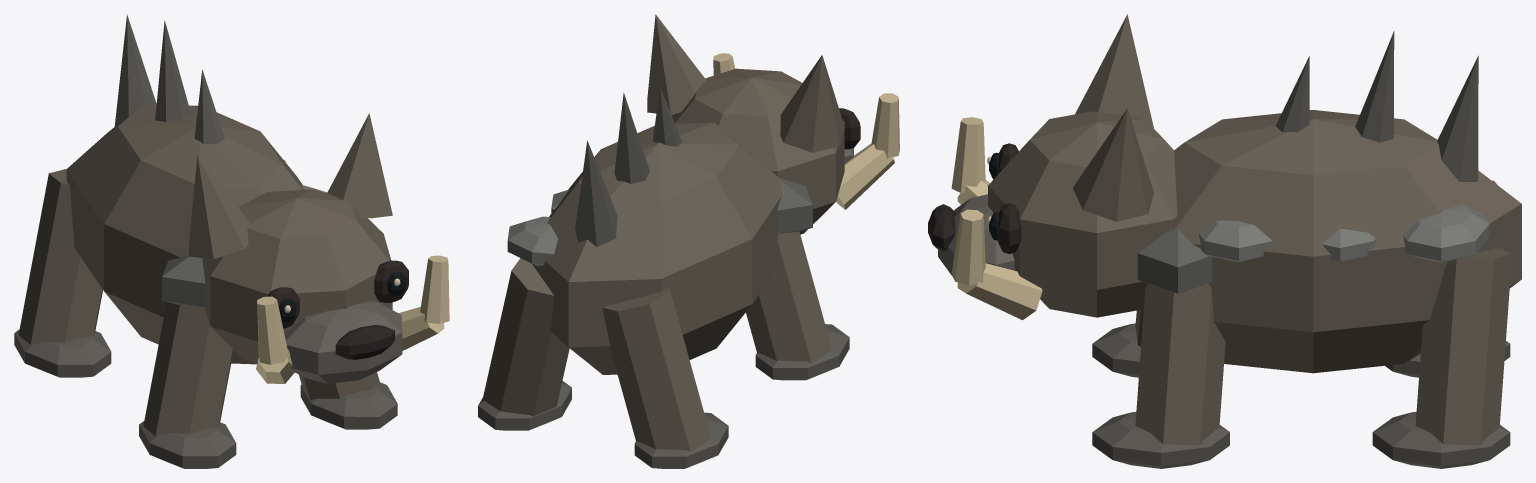
The model's file is spell-fauna-stonebound.glb.
3 views of the same model, side by side, from view 1: azimuth 30°, elevation 25°; view 2: azimuth 150°, elevation 25°; view 3: azimuth 270°, elevation 25° (orthographic). The views are drawn at different scales.
Visible parts, largest first — view 1: Fauna_stonebound; view 2: Fauna_stonebound; view 3: Fauna_stonebound.
Part boxes in pixels (box(x1,y1,x2,y2)): Fauna_stonebound: box(14, 14, 449, 468); Fauna_stonebound: box(478, 14, 899, 468); Fauna_stonebound: box(928, 14, 1521, 468).
Bounding box in the file's own units: 0.9118 × 1.26 × 1.76.
